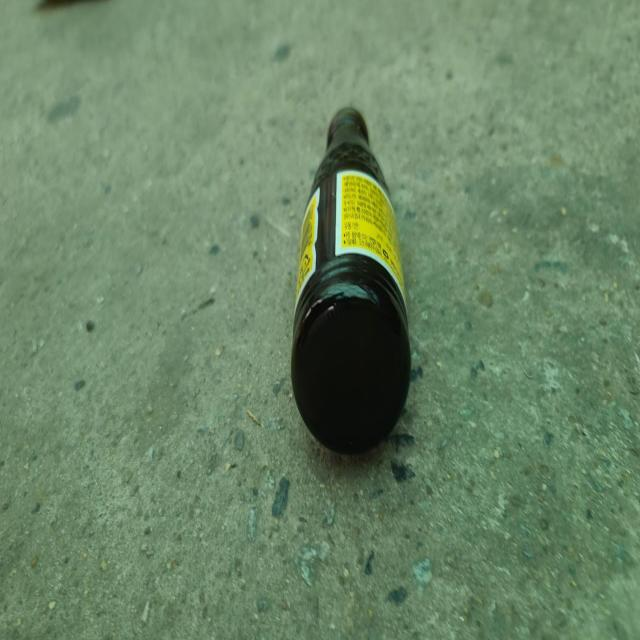glass: (291, 107, 411, 454)
